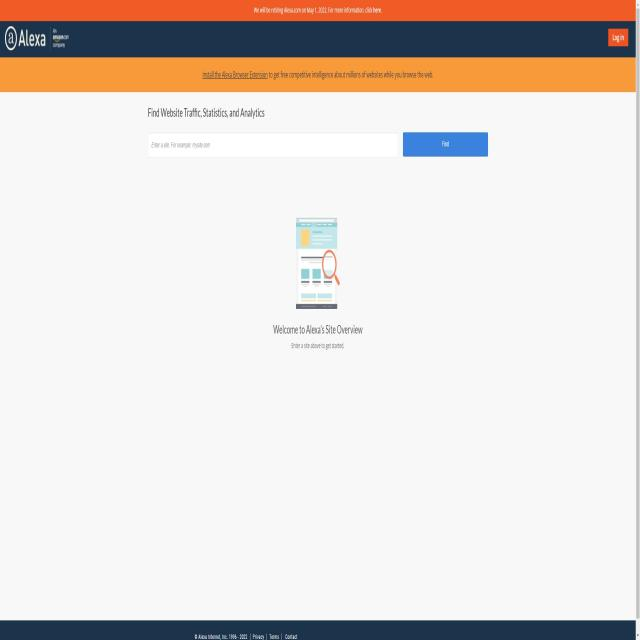search: (147, 129, 401, 164)
